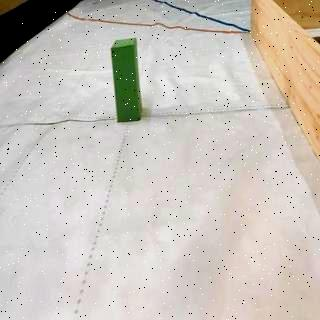greenbox: (113, 41, 139, 121)
